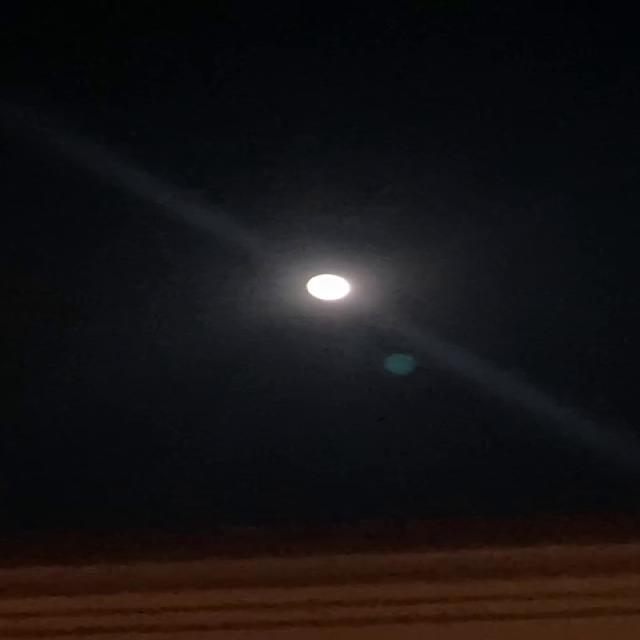moon: (292, 268, 358, 304)
